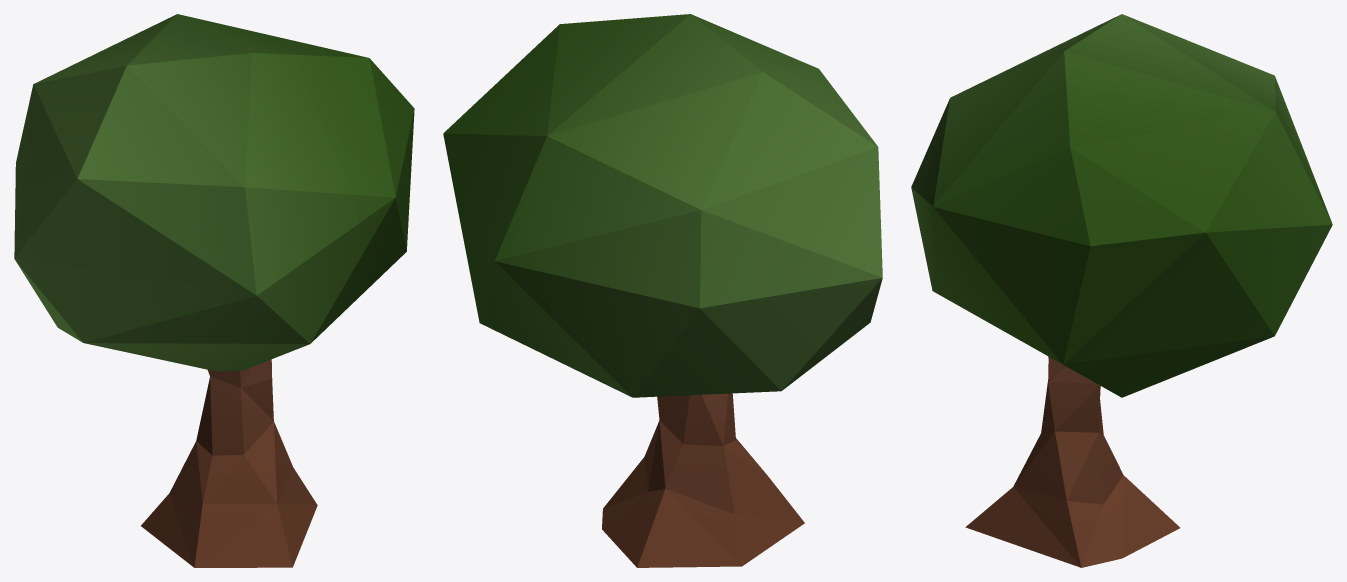
File: Tree_Green.gltf
3 views of the same model, side by side, from view 1: azimuth 30°, elevation 25°; view 2: azimuth 150°, elevation 25°; view 3: azimuth 270°, elevation 25° (orthographic). The views are drawn at different scales.
Visible parts, largest first — view 1: Tree_Green; view 2: Tree_Green; view 3: Tree_Green.
Part boxes in pixels (x1,y1,x2,y2): Tree_Green: [14, 14, 414, 567]; Tree_Green: [443, 14, 882, 567]; Tree_Green: [911, 14, 1332, 567].
Bounding box in the file's own units: 4.39 × 5.2 × 4.14.
Materials: 1 (1 with a texture image).
